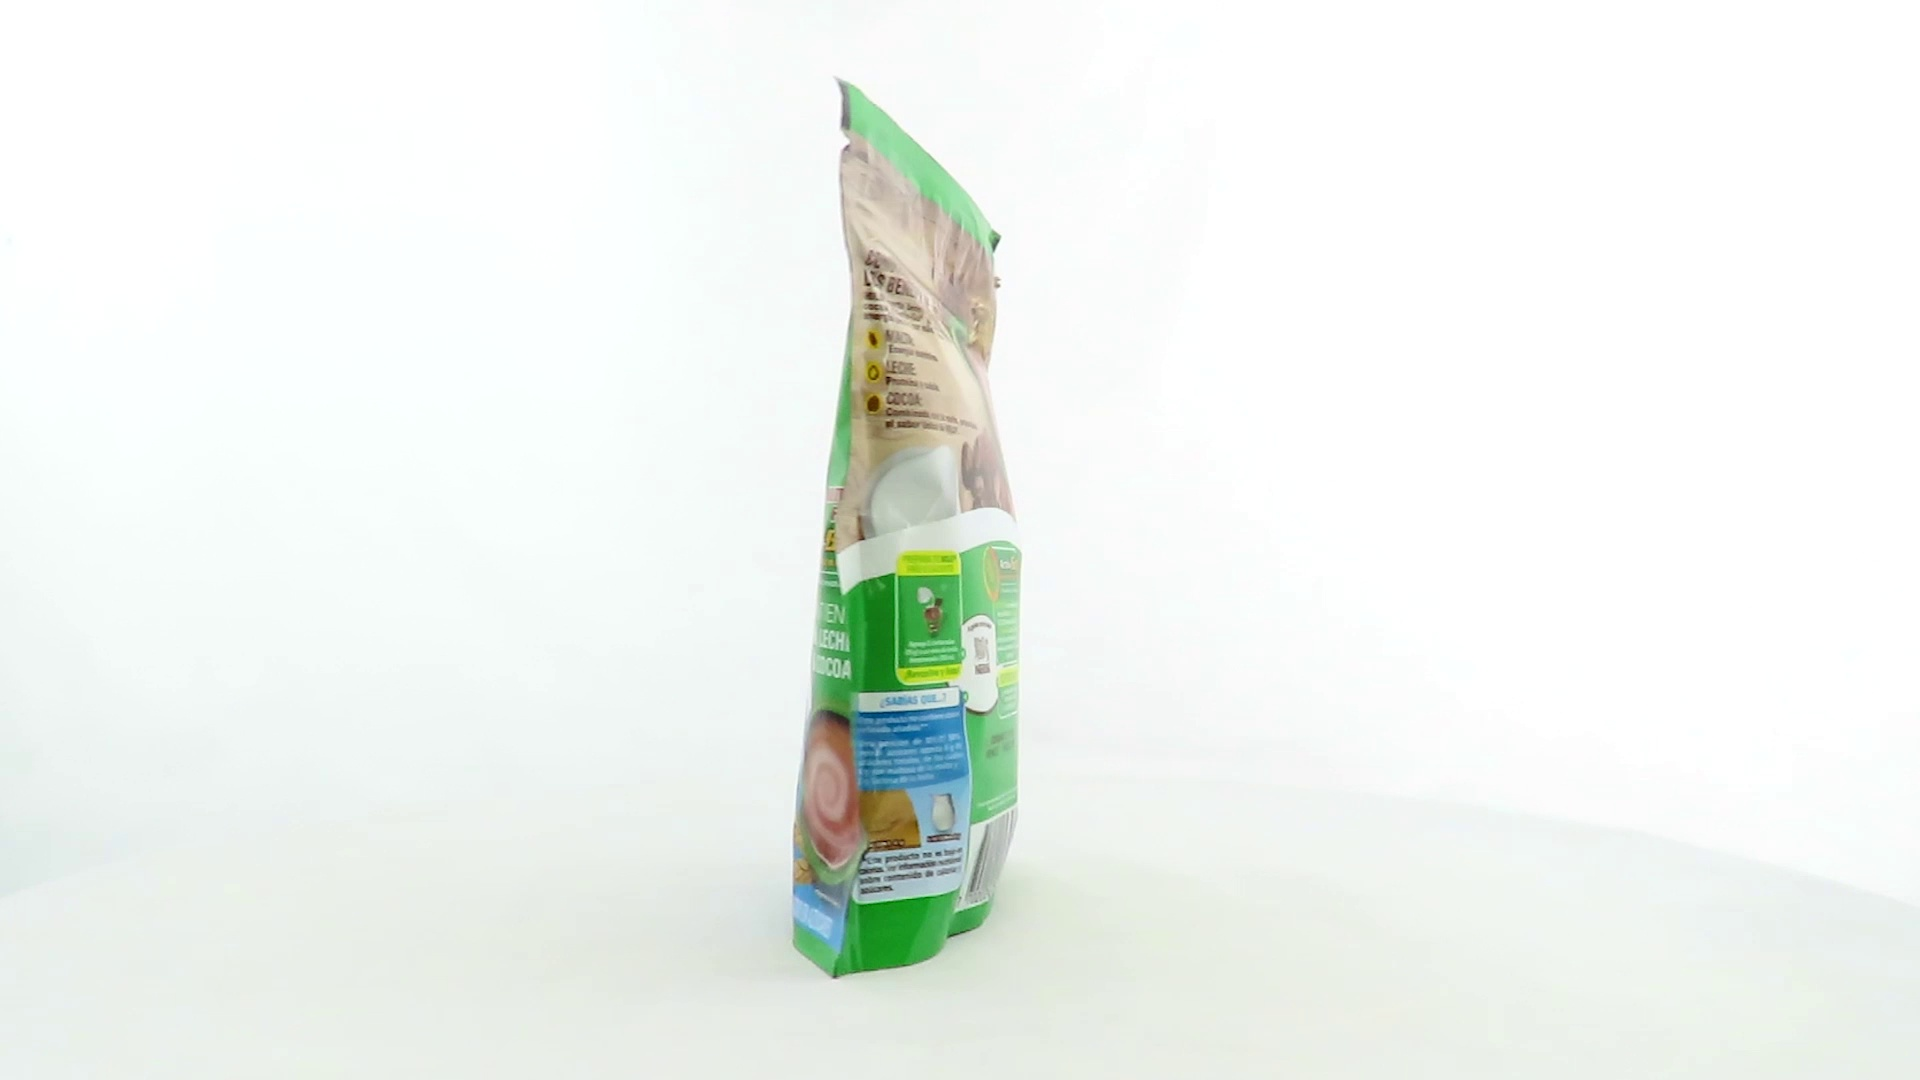COL0170205DYP20000: (786, 71, 1029, 985)
